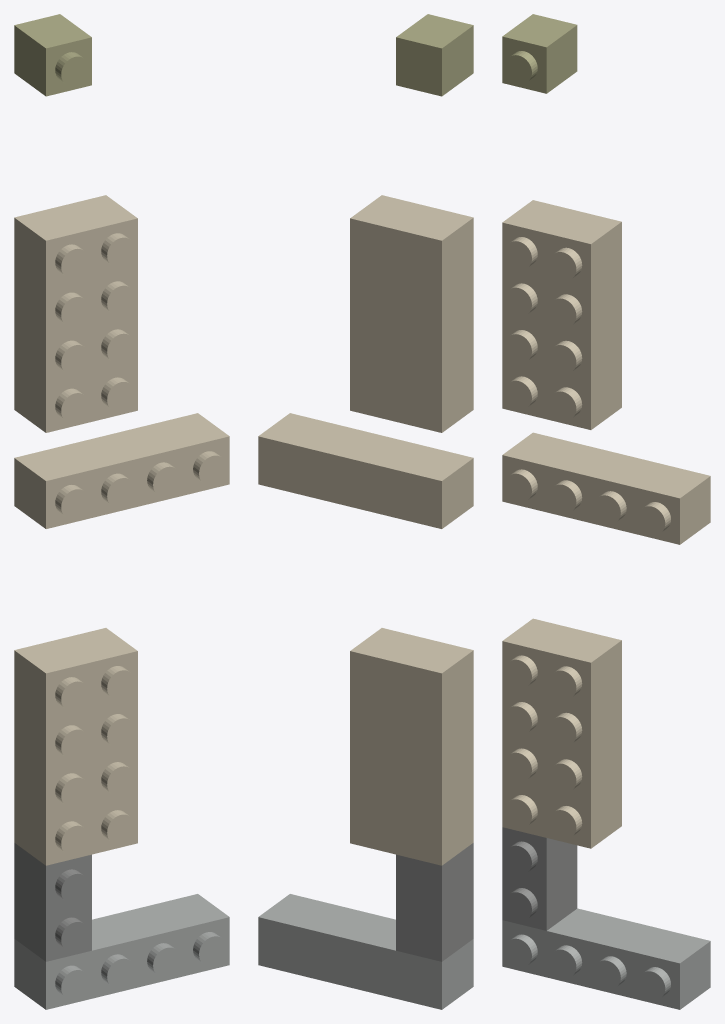
The model's file is current.glb.
The picture shows the model from 3 angles, left to right: view 1: azimuth 30°, elevation 25°; view 2: azimuth 150°, elevation 25°; view 3: azimuth 330°, elevation 25°; orthographic projection. The views are drawn at different scales.
Visible parts, largest first — view 1: world; view 2: world; view 3: world.
Boxes of the visible parts, x1=… form: world: x1=14, y1=14, x2=229, y2=1009; world: x1=258, y1=14, x2=473, y2=1009; world: x1=502, y1=14, x2=710, y2=1009.
Bounding box in the file's own units: 32 × 160 × 11.4.
